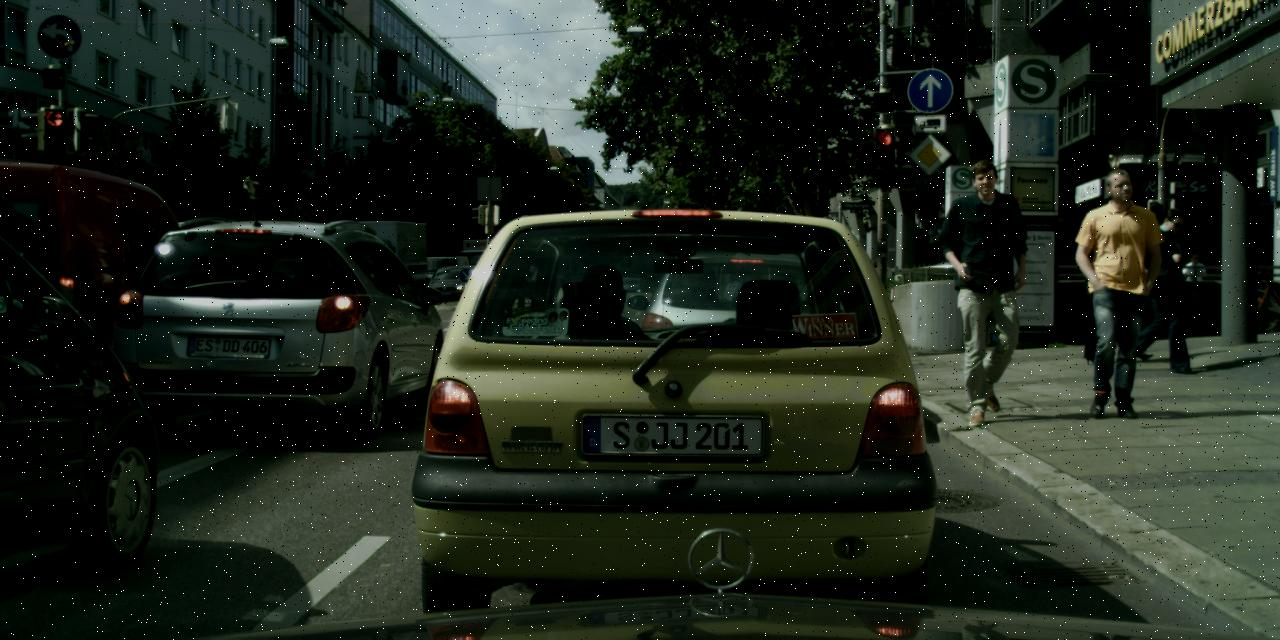ped: (932, 158, 1040, 420), (1065, 168, 1167, 416), (1134, 207, 1199, 365), (1182, 252, 1206, 312)
